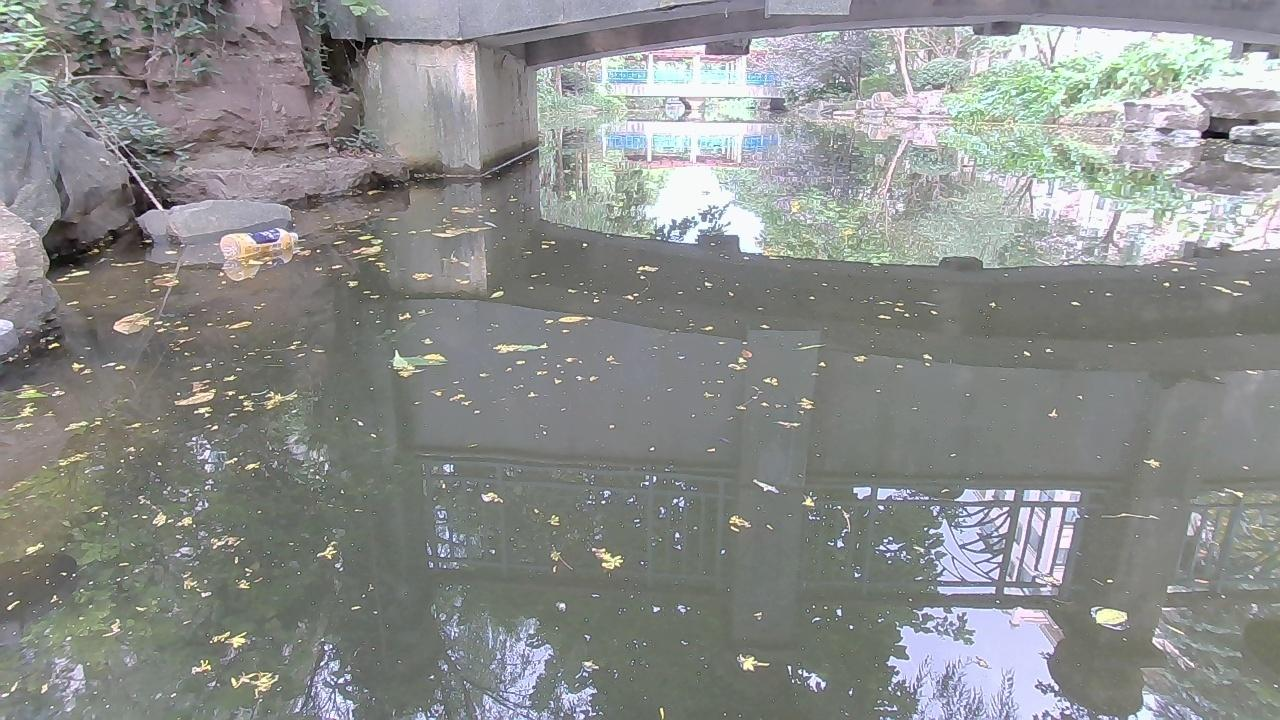bottle: (213, 223, 301, 264)
